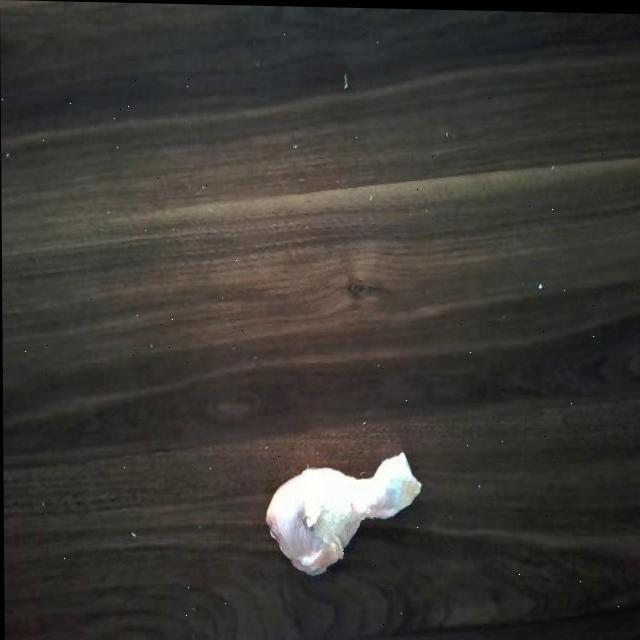leg: (263, 444, 428, 576)
